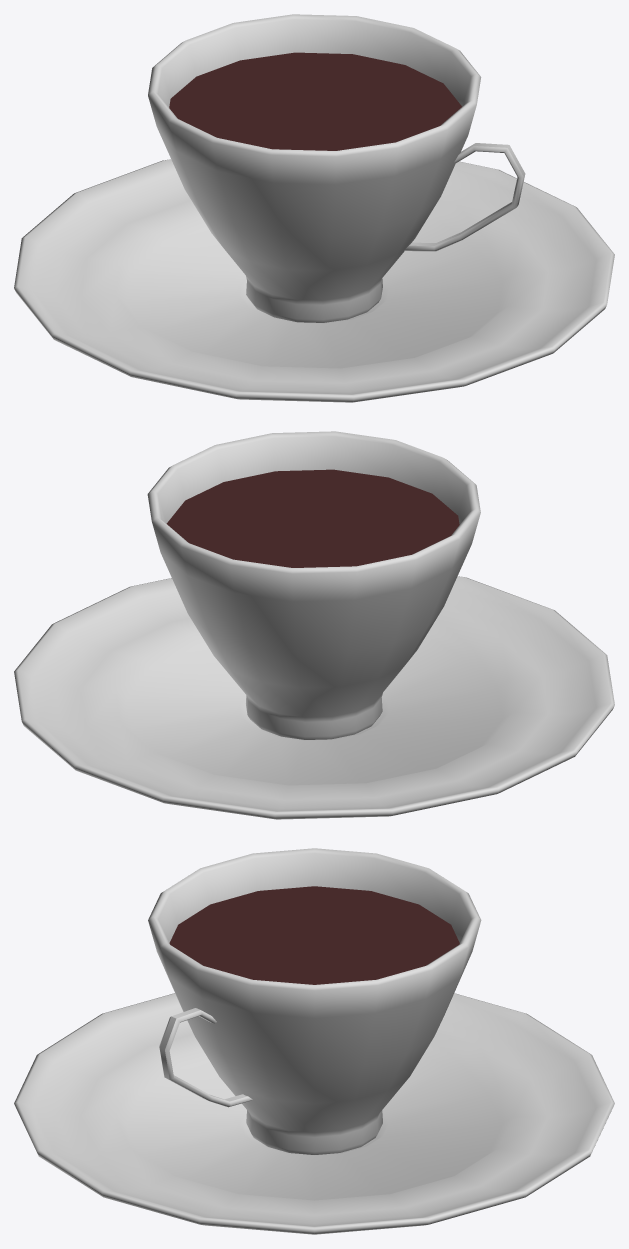
Rendered from Coffee Cup.FBX.
3 renders of one model, top to bottom at view 1: azimuth 30°, elevation 25°; view 2: azimuth 150°, elevation 25°; view 3: azimuth 270°, elevation 25°, orthographic.
Parts seen in each view (by area): view 1: Oriental_Taza_Cafe; view 2: Oriental_Taza_Cafe; view 3: Oriental_Taza_Cafe.
Part boxes in pixels (<box>): Oriental_Taza_Cafe: <box>14,14,614,402</box>; Oriental_Taza_Cafe: <box>14,431,614,819</box>; Oriental_Taza_Cafe: <box>14,848,614,1234</box>.
Bounding box in the file's own units: 18.05 × 7.34 × 18.05.
